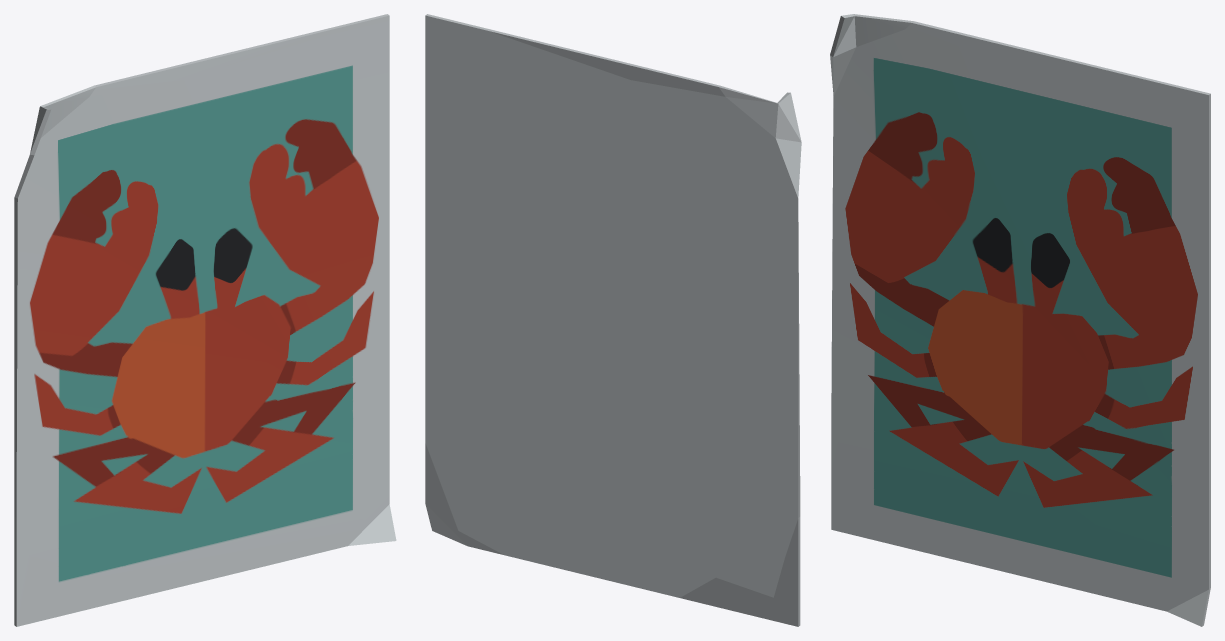
File: SM_Prop_Sign_Poster_02_216.obj
3 renders of one model, left to right at view 1: azimuth 30°, elevation 25°; view 2: azimuth 150°, elevation 25°; view 3: azimuth 330°, elevation 25°, orthographic.
Parts seen in each view (by area): view 1: SM_Prop_Sign_Poster_02_0; view 2: SM_Prop_Sign_Poster_02_0; view 3: SM_Prop_Sign_Poster_02_0.
Part boxes in pixels (box(x1,y1,x2,y2)): SM_Prop_Sign_Poster_02_0: box(14, 14, 396, 626); SM_Prop_Sign_Poster_02_0: box(425, 14, 801, 626); SM_Prop_Sign_Poster_02_0: box(830, 14, 1210, 626).
Size of the model in its own units: 0.878 by 1.17 by 0.0524.
1 material, 1 textured.
